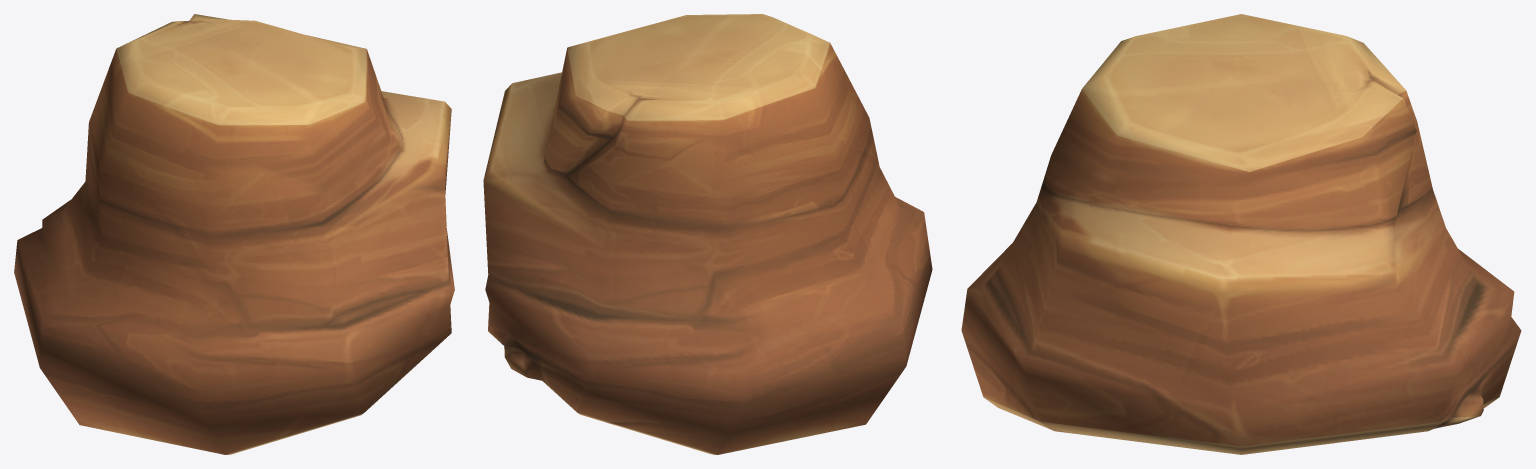
Rendered from DE_Rock_06.fbx.
3 views of the same model, side by side, from view 1: azimuth 30°, elevation 25°; view 2: azimuth 150°, elevation 25°; view 3: azimuth 270°, elevation 25° (orthographic). The views are drawn at different scales.
Parts seen in each view (by area): view 1: DE_Rock_06; view 2: DE_Rock_06; view 3: DE_Rock_06.
Boxes of the visible parts, x1,y1,x2,y2 form: DE_Rock_06: (14,14,454,454); DE_Rock_06: (483,14,932,454); DE_Rock_06: (961,14,1521,454).
Size of the model in its own units: 6.84 by 5.37 by 7.04.
